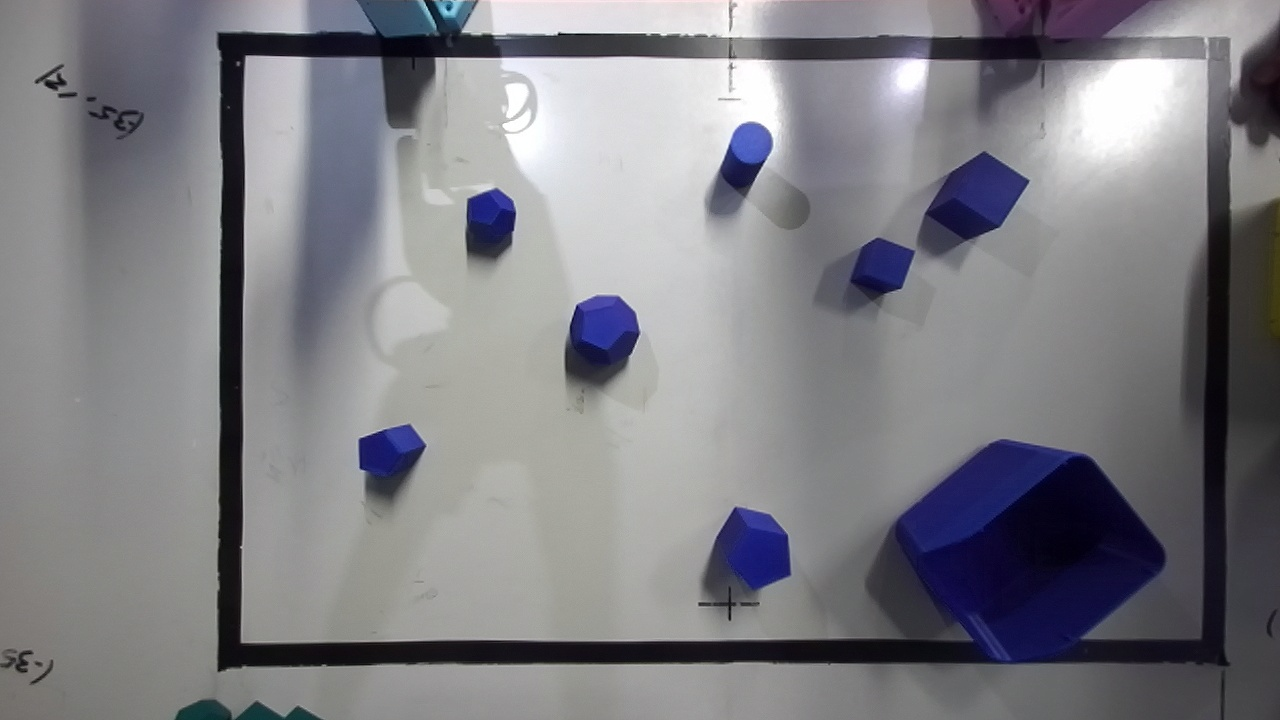bin: (894, 440, 1165, 661)
cube: (925, 152, 1028, 239), (850, 237, 914, 293)
cylinder: (720, 122, 772, 189)
dodecahedron: (569, 295, 639, 365), (467, 188, 515, 249)
hexagonal: (715, 507, 790, 588), (358, 424, 425, 476)
